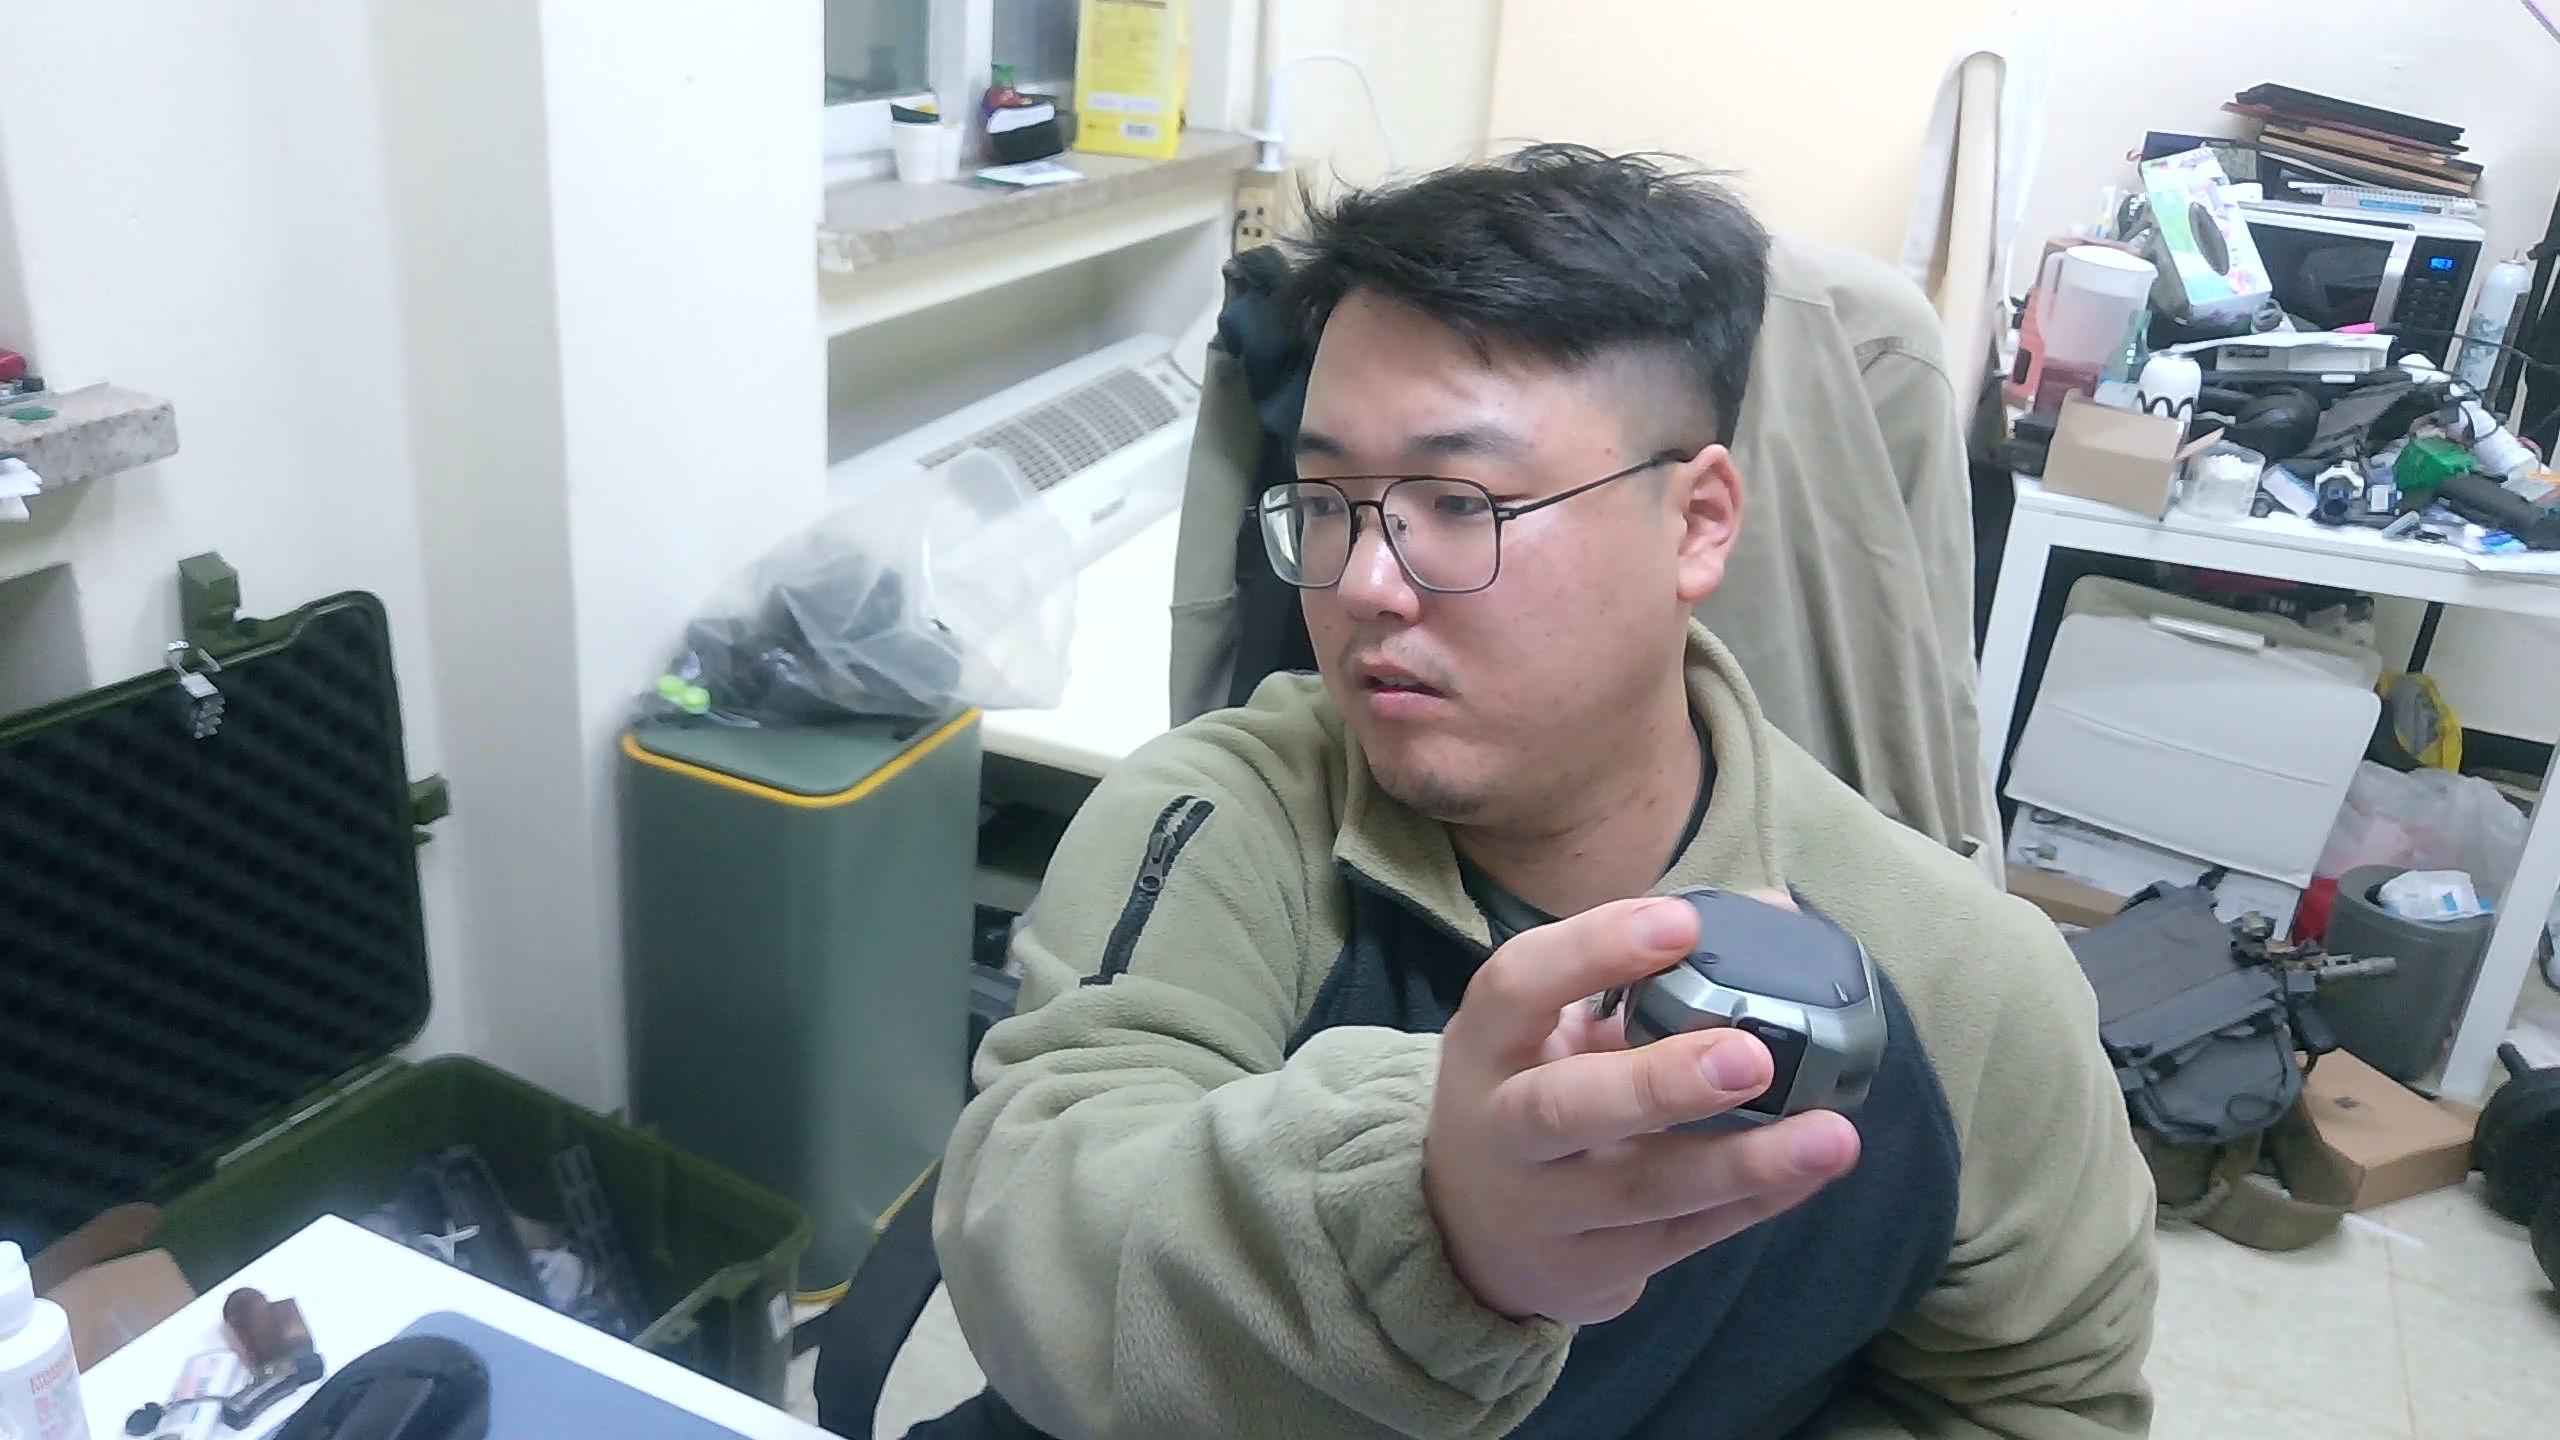blue_pliers: (1614, 883, 1890, 1138)
